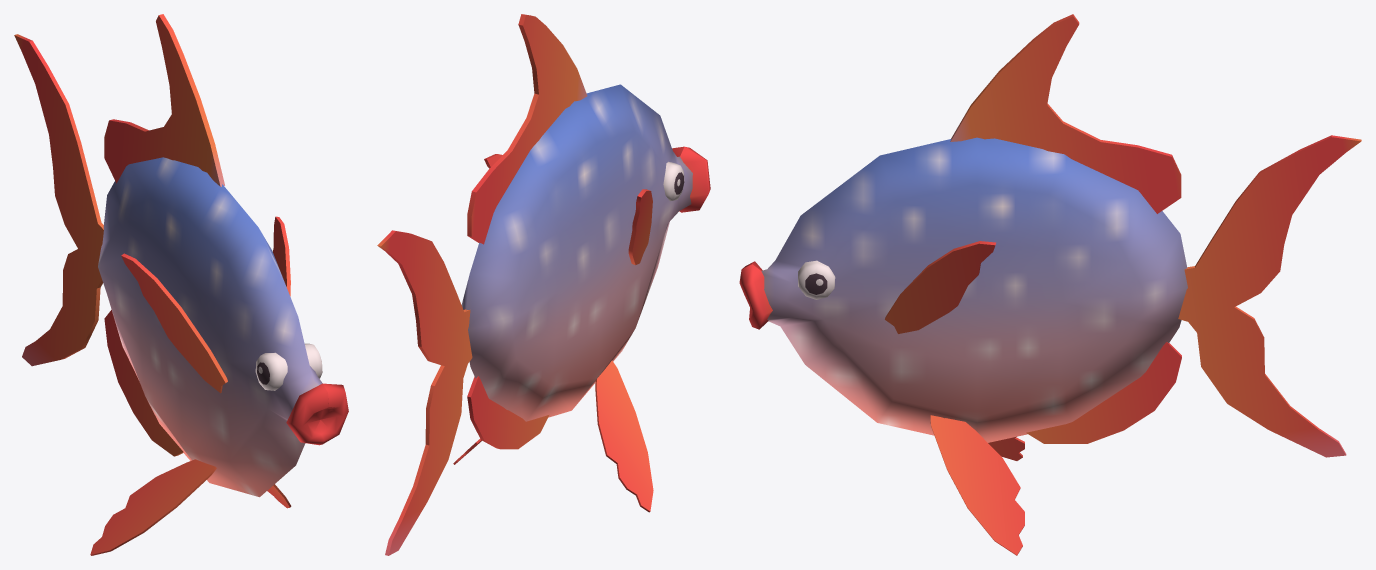
3 renders of one model, left to right at view 1: azimuth 30°, elevation 25°; view 2: azimuth 150°, elevation 25°; view 3: azimuth 270°, elevation 25°, orthographic.
Visible parts, largest first — view 1: Fish_OpahMoonfish; view 2: Fish_OpahMoonfish; view 3: Fish_OpahMoonfish.
Part boxes in pixels (x1=…): Fish_OpahMoonfish: x1=14, y1=14, x2=348, y2=555; Fish_OpahMoonfish: x1=377, y1=14, x2=710, y2=555; Fish_OpahMoonfish: x1=739, y1=14, x2=1361, y2=555.
Size of the model in its own units: 30.53 by 73.18 by 83.59.
